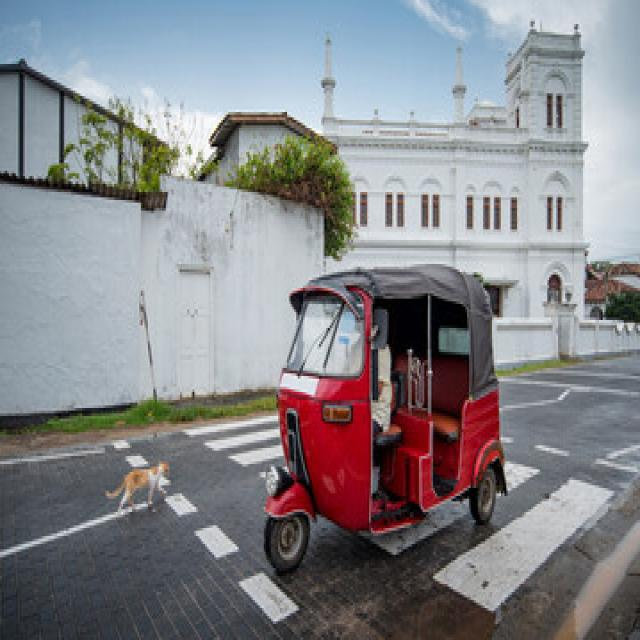three wheeler: (264, 264, 505, 573)
